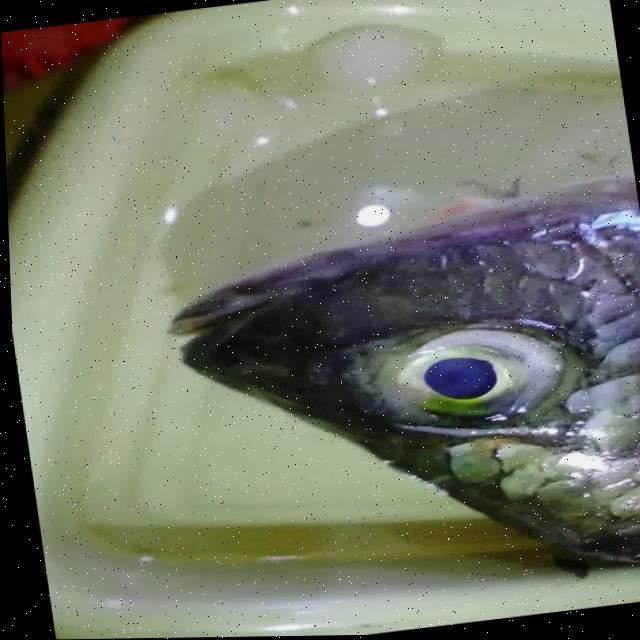Fresh: (318, 284, 637, 473)
